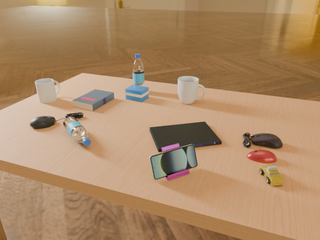book: (150, 122, 222, 152), (72, 89, 114, 111)
bottle: (63, 117, 91, 146), (133, 54, 144, 87)
box: (125, 84, 149, 102)
cup: (178, 76, 205, 104), (35, 79, 60, 103)
mouse: (243, 132, 283, 148), (247, 150, 277, 163), (30, 116, 56, 129)
phone: (150, 144, 197, 180)
toy_car: (260, 166, 283, 186)
